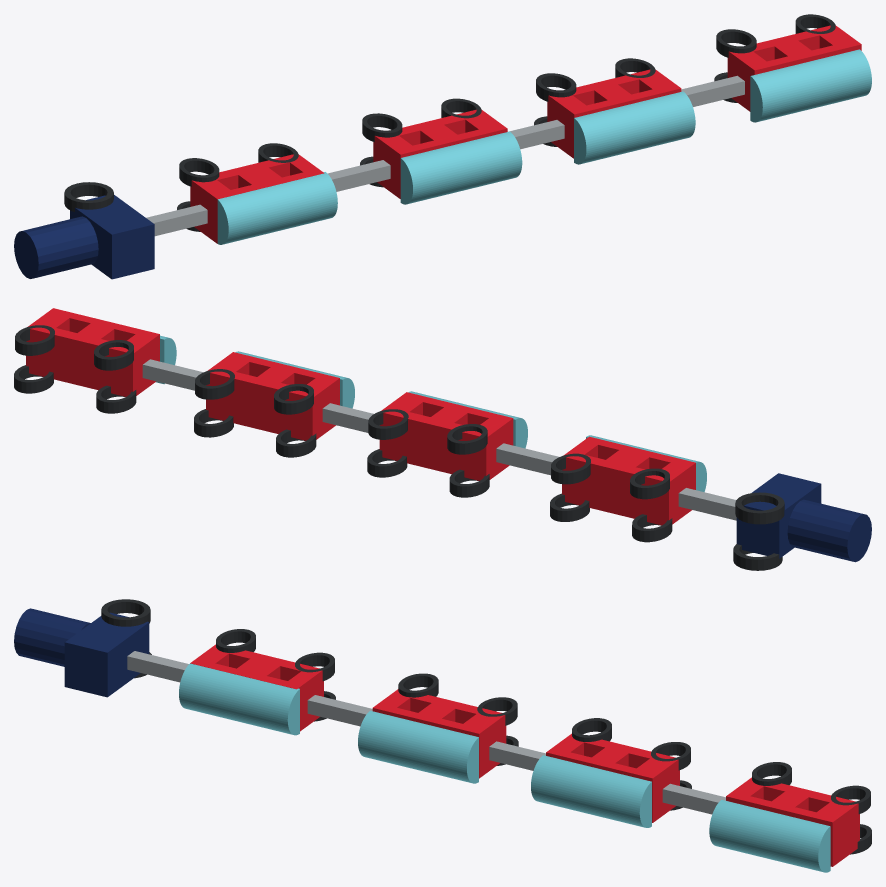
Rendered from tinker.obj.
3 renders of one model, top to bottom at view 1: azimuth 30°, elevation 25°; view 2: azimuth 150°, elevation 25°; view 3: azimuth 330°, elevation 25°, orthographic.
Visible parts, largest first — view 1: group_0_7720667, group_0_15277357, group_0_1650274, group_0_2829873, group_0_10988977; view 2: group_0_15277357, group_0_2829873, group_0_1650274, group_0_10988977, group_0_7720667; view 3: group_0_7720667, group_0_15277357, group_0_2829873, group_0_1650274, group_0_10988977.
Boxes of the visible parts, bbox=[...] form: group_0_7720667: bbox=[217, 49, 871, 244]; group_0_15277357: bbox=[190, 25, 861, 243]; group_0_1650274: bbox=[14, 195, 154, 279]; group_0_2829873: bbox=[64, 14, 835, 231]; group_0_10988977: bbox=[146, 75, 744, 236]; group_0_15277357: bbox=[26, 308, 695, 525]; group_0_2829873: bbox=[14, 325, 784, 570]; group_0_1650274: bbox=[736, 473, 871, 562]; group_0_10988977: bbox=[142, 359, 736, 520]; group_0_7720667: bbox=[156, 335, 706, 492]; group_0_7720667: bbox=[179, 663, 830, 872]; group_0_15277357: bbox=[190, 644, 859, 866]; group_0_2829873: bbox=[101, 599, 871, 854]; group_0_1650274: bbox=[14, 608, 149, 697]; group_0_10988977: bbox=[127, 651, 725, 814].
Bounding box in the file's own units: 386 × 26 × 47.
